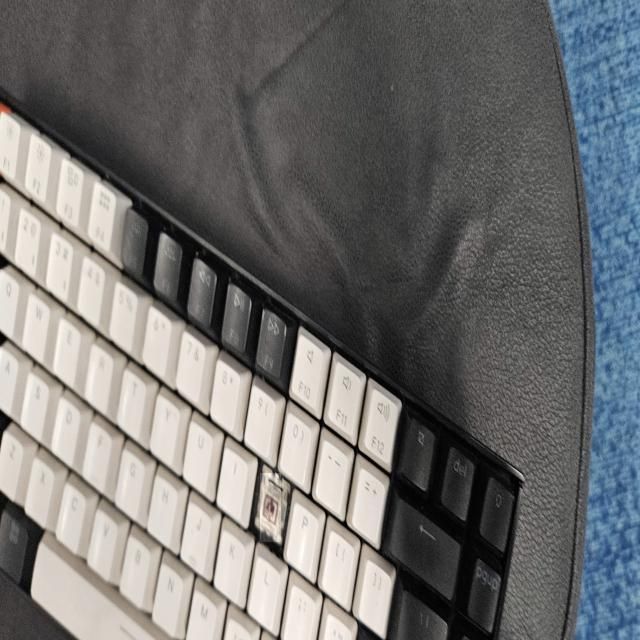C: (260, 473, 281, 542)
